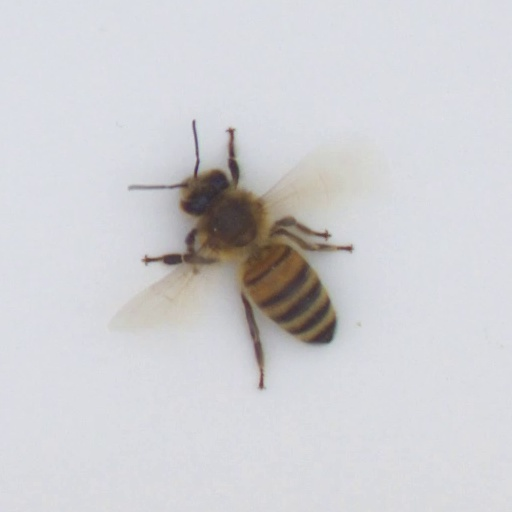Bee: (177, 176, 340, 344)
Thorax: (205, 189, 262, 252)
